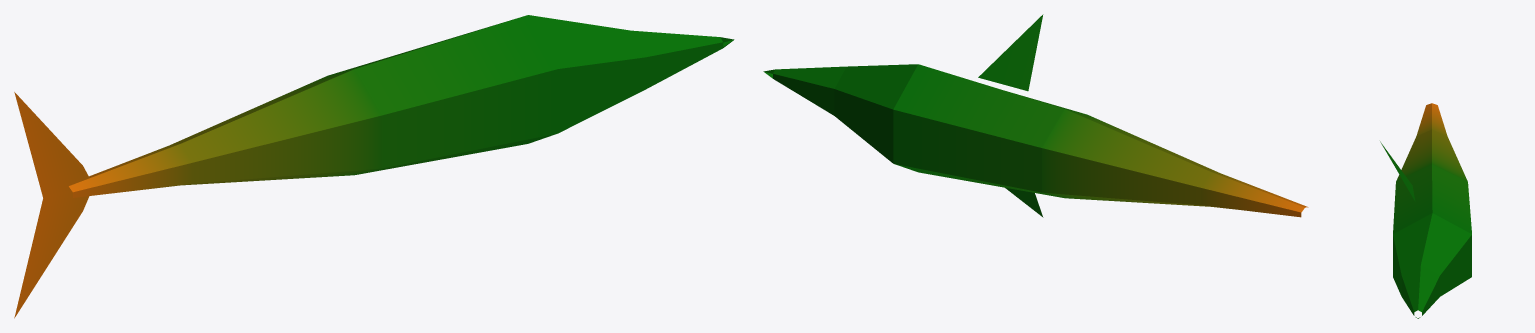
File: dolphin_a_lod.glb
3 views of the same model, side by side, from view 1: azimuth 30°, elevation 25°; view 2: azimuth 150°, elevation 25°; view 3: azimuth 270°, elevation 25° (orthographic). The views are drawn at different scales.
Parts seen in each view (by area): view 1: dolphin_a_lod; view 2: dolphin_a_lod; view 3: dolphin_a_lod.
Part boxes in pixels (x1,y1,x2,y2): dolphin_a_lod: (14,15,734,318); dolphin_a_lod: (763,14,1308,217); dolphin_a_lod: (1380,103,1471,318).
Size of the model in its own units: 1.96 by 0.64 by 0.51.
